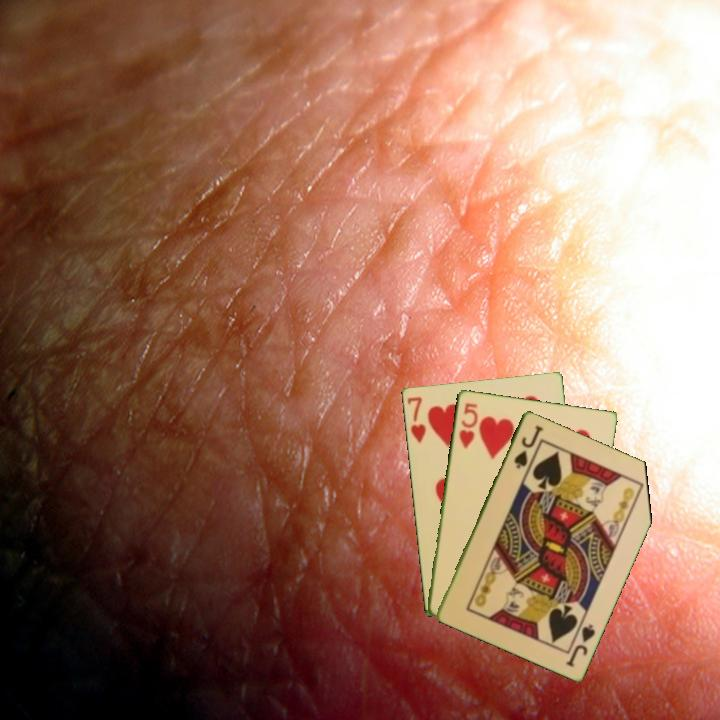5h: (455, 399, 480, 451)
7h: (404, 393, 428, 446)
Js: (562, 620, 598, 669), (510, 421, 545, 471)
